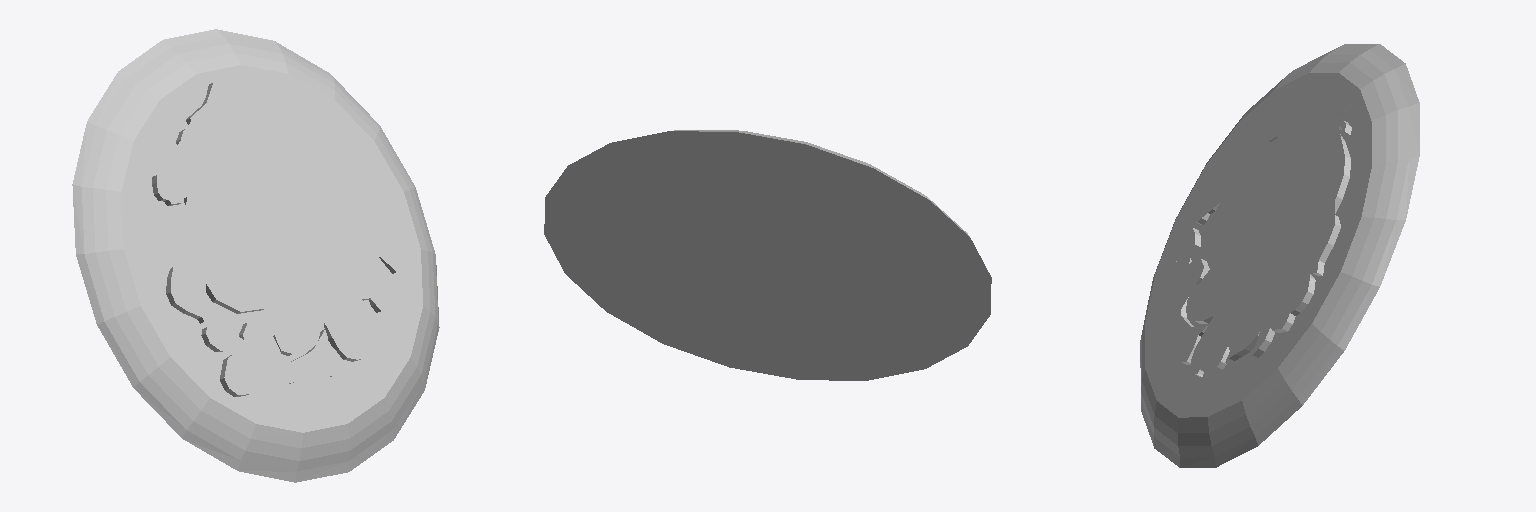
Rendered from xiongpai.obj.
3 renders of one model, left to right at view 1: azimuth 30°, elevation 25°; view 2: azimuth 150°, elevation 25°; view 3: azimuth 270°, elevation 25°, orthographic.
Parts seen in each view (by area): view 1: xiongpai2:polySurface462 xiongpai2:polySurface524 xiongpai2:poly; view 2: xiongpai2:polySurface462 xiongpai2:polySurface524 xiongpai2:poly; view 3: xiongpai2:polySurface462 xiongpai2:polySurface524 xiongpai2:poly.
Boxes of the visible parts, x1,y1,x2,y2 form: xiongpai2:polySurface462 xiongpai2:polySurface524 xiongpai2:poly: [72, 29, 439, 482]; xiongpai2:polySurface462 xiongpai2:polySurface524 xiongpai2:poly: [544, 130, 991, 380]; xiongpai2:polySurface462 xiongpai2:polySurface524 xiongpai2:poly: [1140, 44, 1419, 467].
Size of the model in its own units: 7.66 by 6.79 by 4.84.